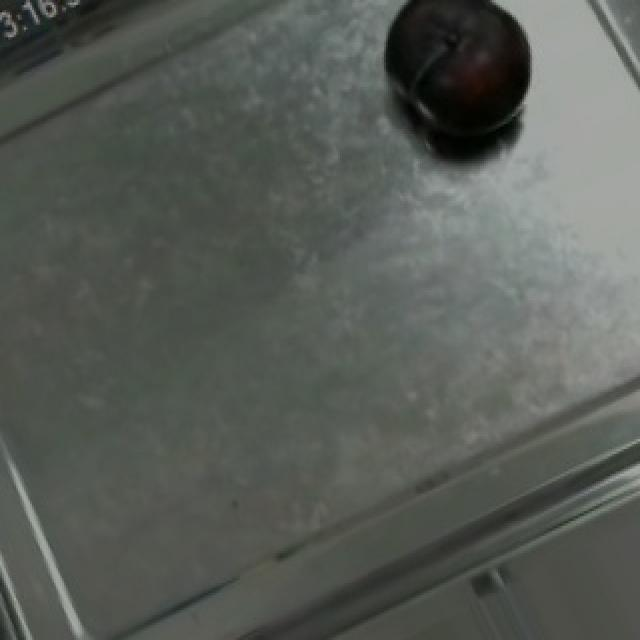Fruit: (366, 0, 554, 166)
